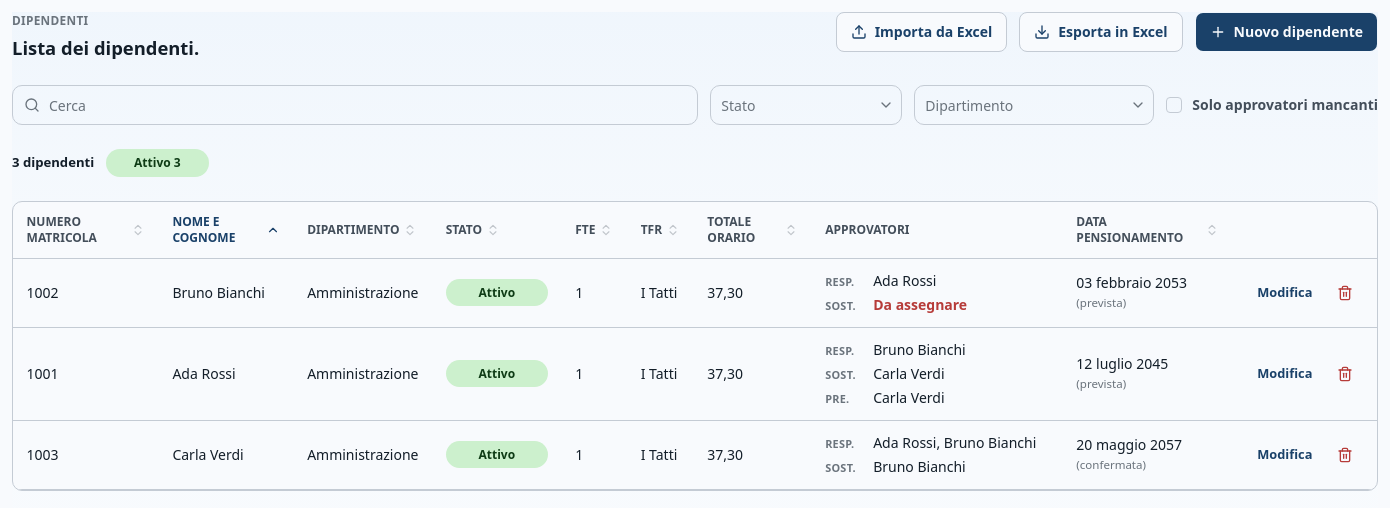
Test case: the directory table › explains an empty table rather than just showing nothing
Expected: the cell "Ada Rossi" is shown, top-left (159, 327), bottom-right (294, 420)
Click the checkbox named "Solo approvatori mancanti" at x=1174, y=105, box top-left (1166, 97), bottom-right (1182, 113)
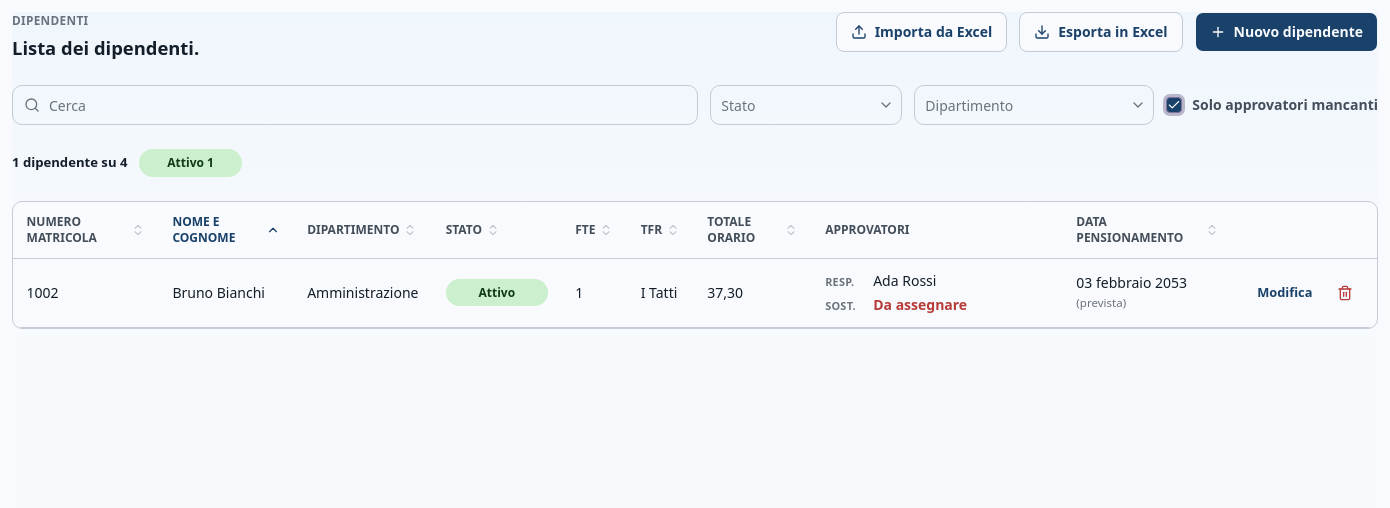
Click the button "Numero Matricola" at x=86, y=230, box top-left (13, 202), bottom-right (159, 258)
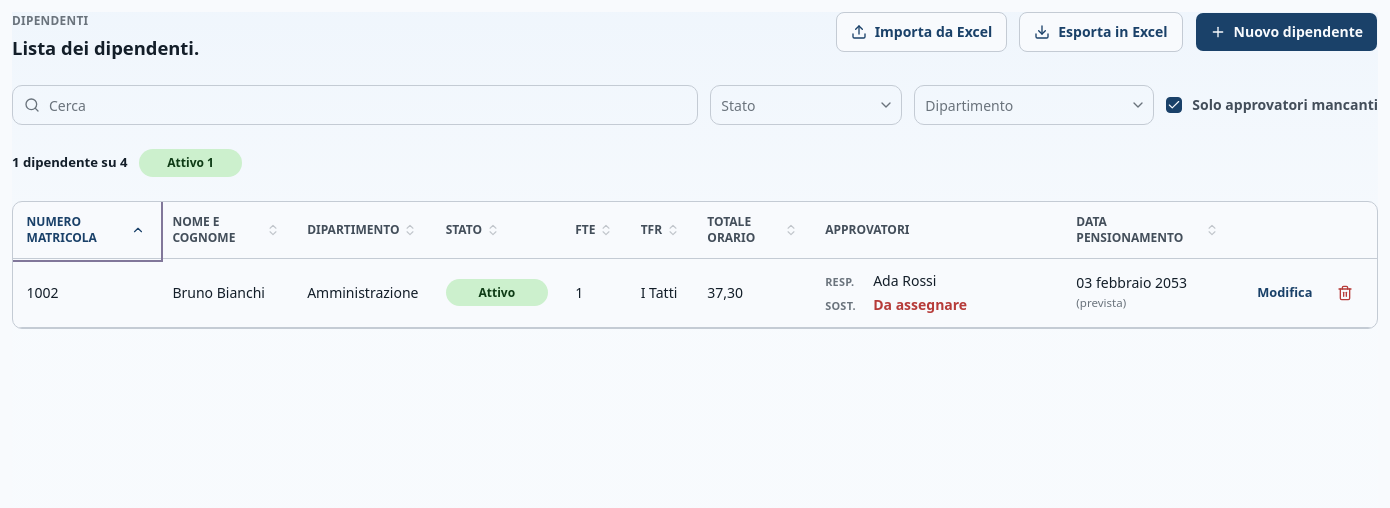
Expected: the text "Nessun dipendente corrisponde ai filtri" is not shown
Type "Ada" into the field labelled "Cerca" at x=355, y=105, box top-left (12, 85), bottom-right (698, 125)
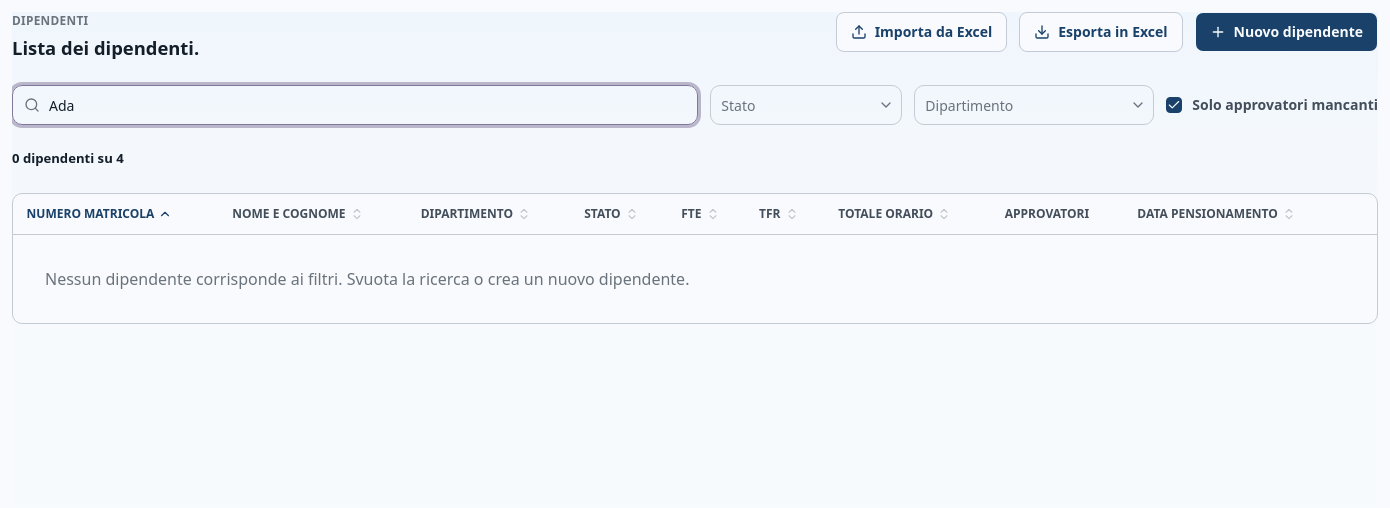
Result: the text "Nessun dipendente corrisponde ai filtri" is shown at top-left (45, 268), bottom-right (689, 290)
